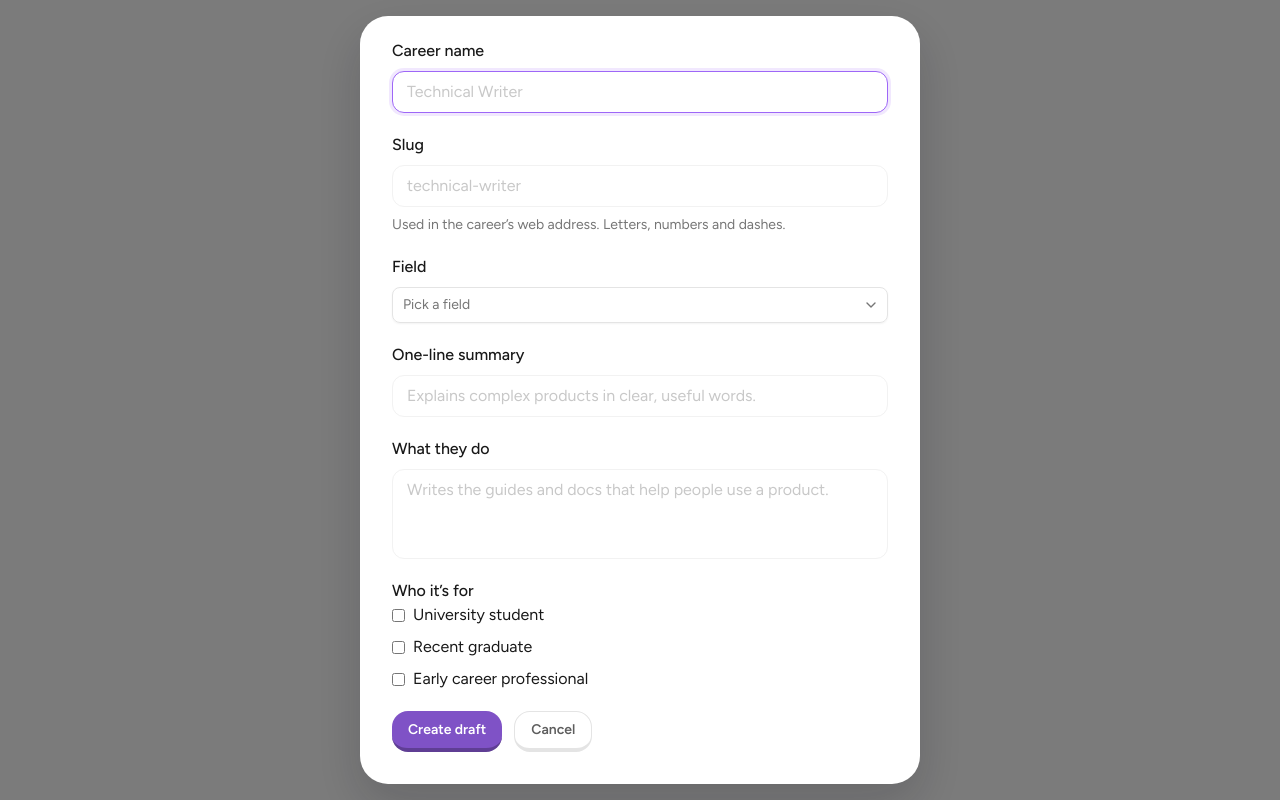
Test: AddCareerDialog › asks for what is missing before creating
This screenshot has width=1280, height=800.
(page scrolled)
Click the button "Create draft" at (447, 732), box x1=392 y1=711 x2=502 y2=752
(page scrolled)
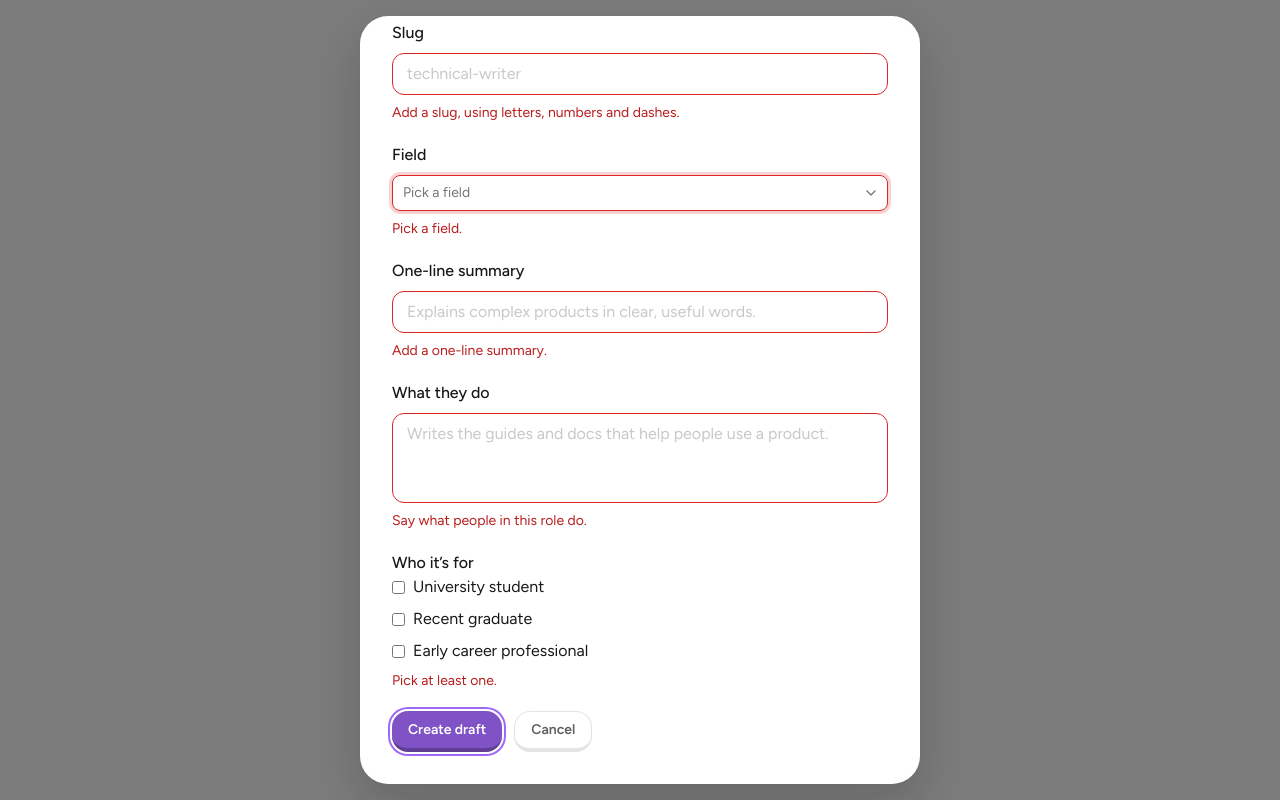
Result: the text "Pick a field." is shown at x1=392 y1=220 x2=462 y2=237
Result: the text "Pick at least one." is shown at x1=392 y1=672 x2=497 y2=689
